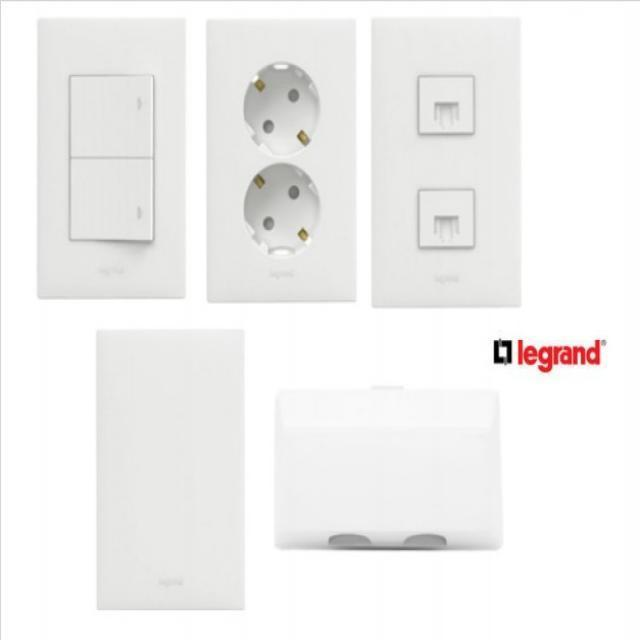typeb: (198, 17, 365, 323)
